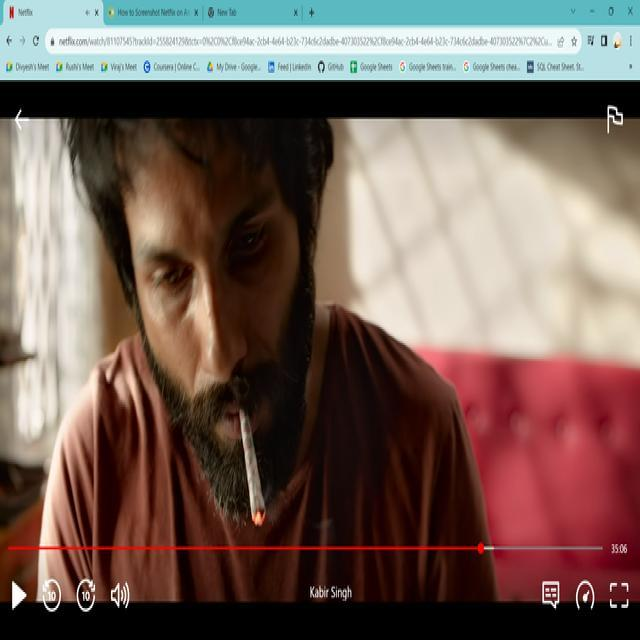smoking: (230, 394, 275, 530)
